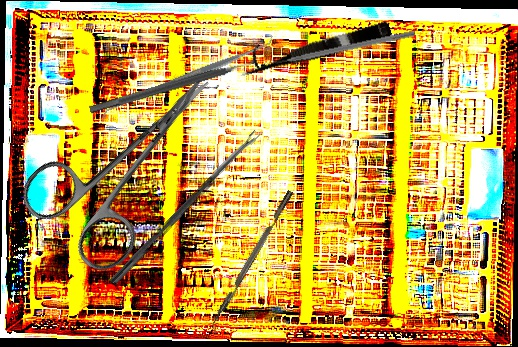Chopper: (205, 189, 301, 336), (265, 22, 416, 68)
Fixation Ring: (85, 43, 268, 124)
Iris Scissors: (12, 37, 255, 283)
Micro Scissor: (237, 17, 393, 83)
Spatula Surgical: (95, 33, 279, 123)
Surgical Spoon: (108, 129, 262, 288)
